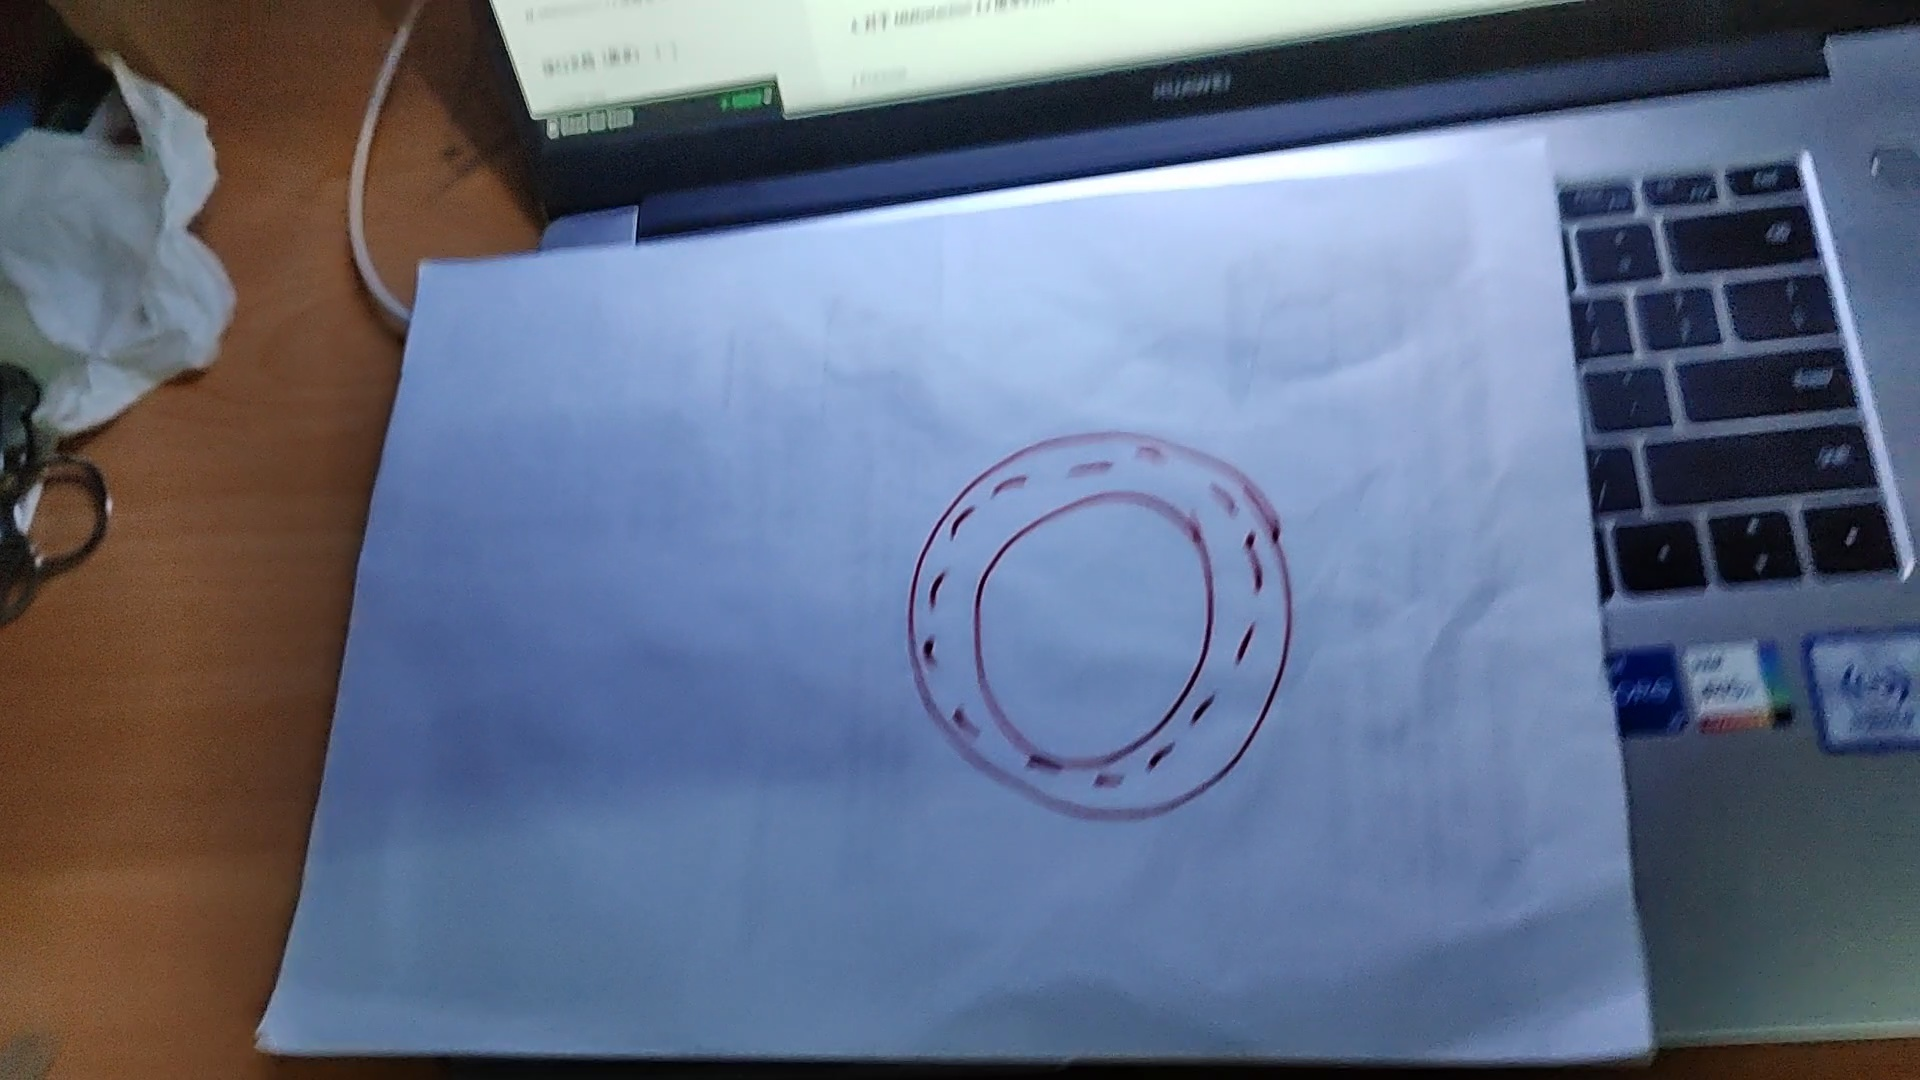circle: (909, 435, 1294, 824)
